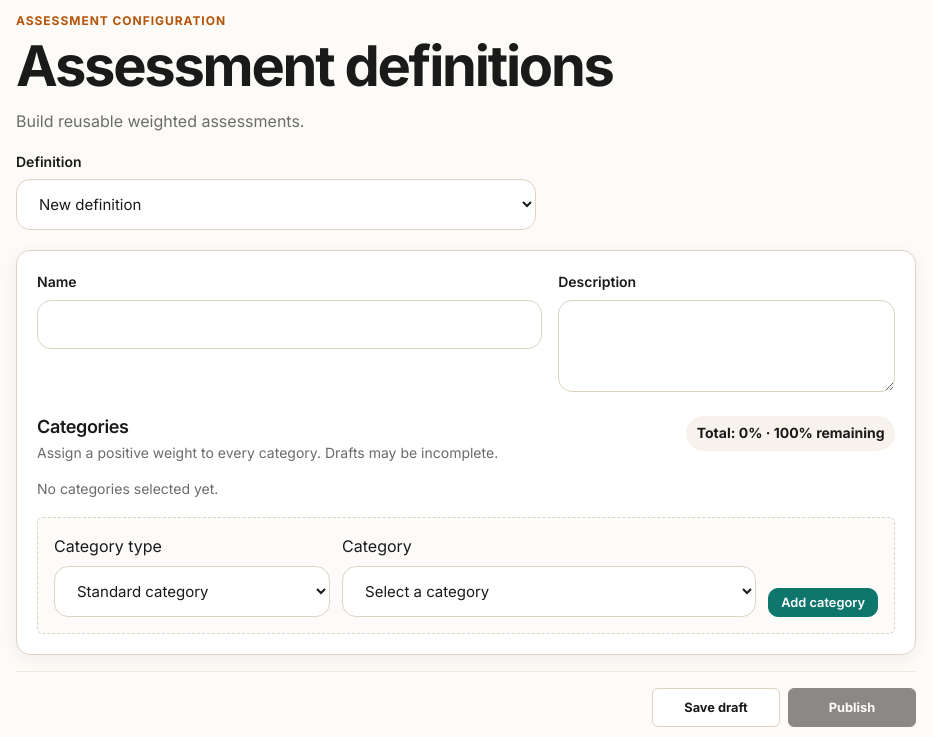
Scenario: AssessmentDefinitions › uses a text box and creates a custom category when adding one
Select "Custom category" in the dropdown labelled "Category type". click: point(192, 591)
box: [54, 566, 330, 616]
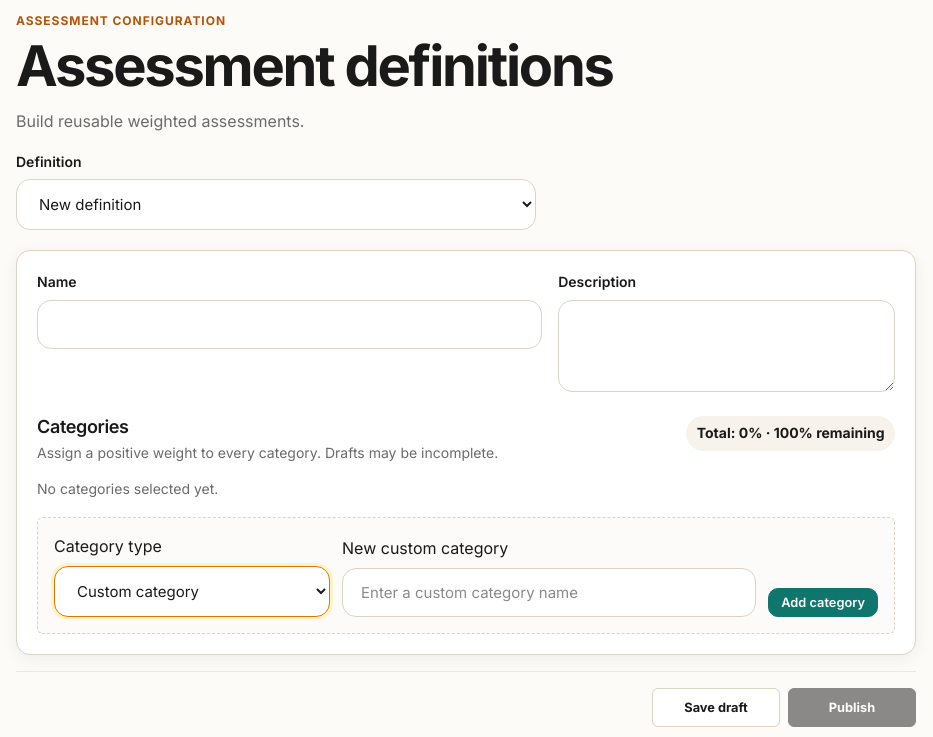
Now the field labelled "New custom category" is shown
Type "Communication" into the field labelled "New custom category". click: point(549, 592)
box: [342, 568, 756, 616]
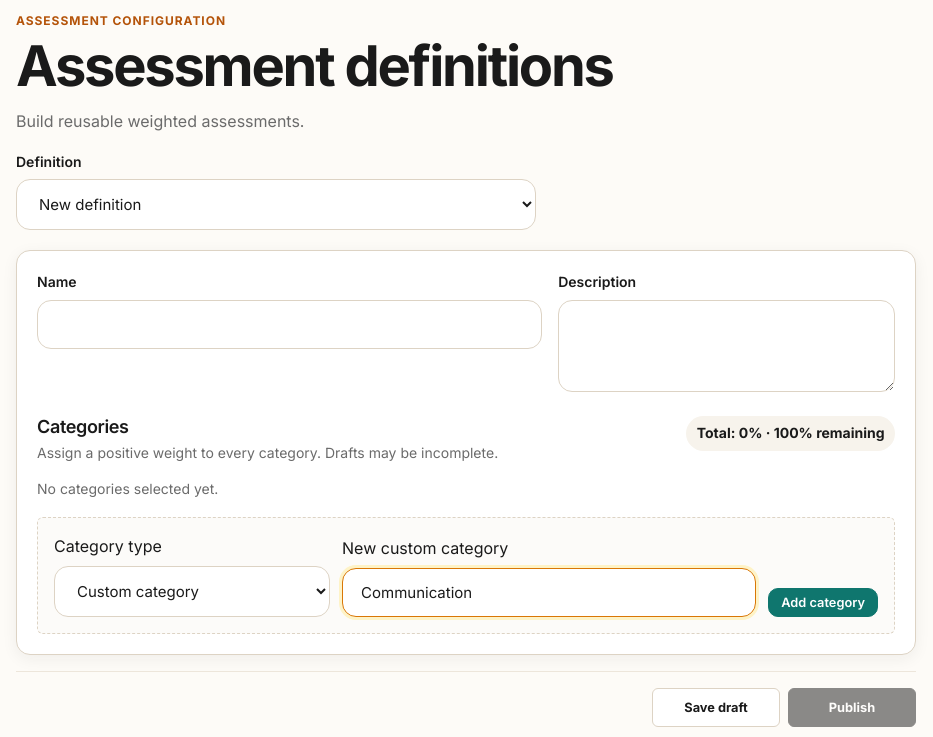
Click the button "Add category". click: point(823, 602)
box: [768, 588, 878, 616]
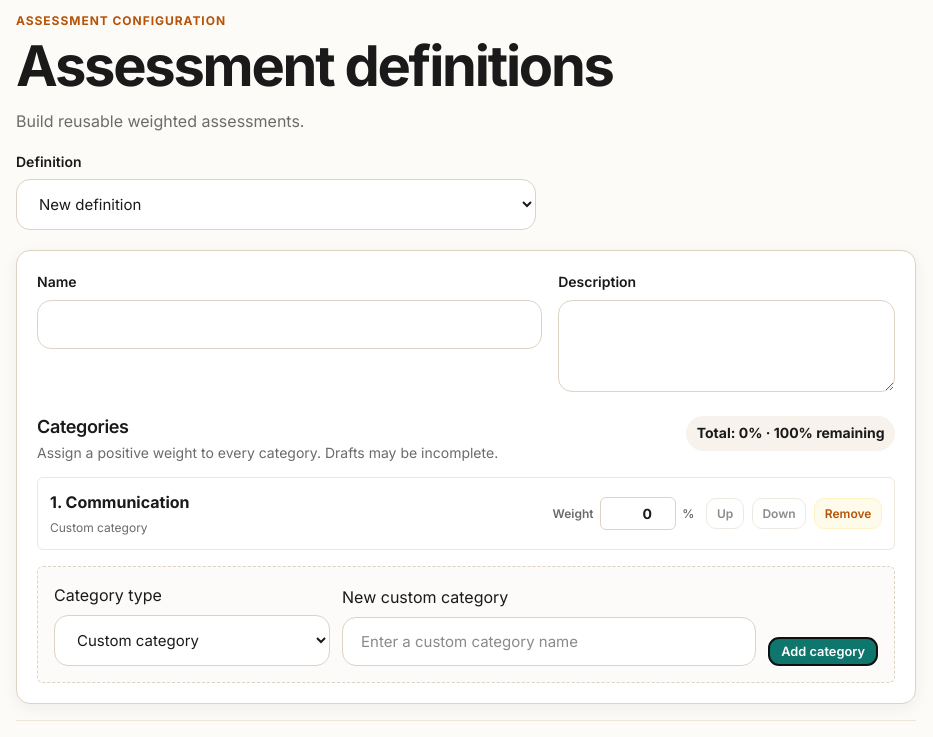
Now the text "1. Communication" is shown, box [50, 492, 190, 512]
